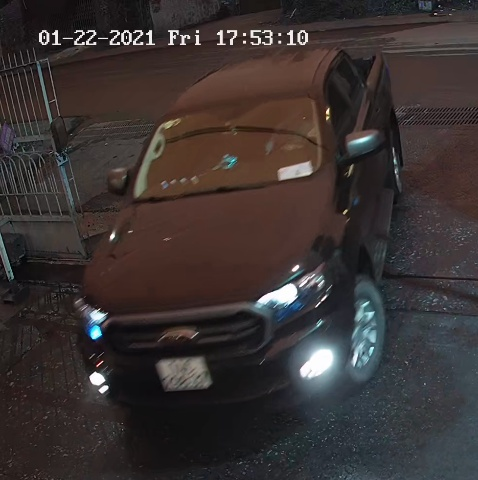vehicle plate: (149, 351, 215, 393)
